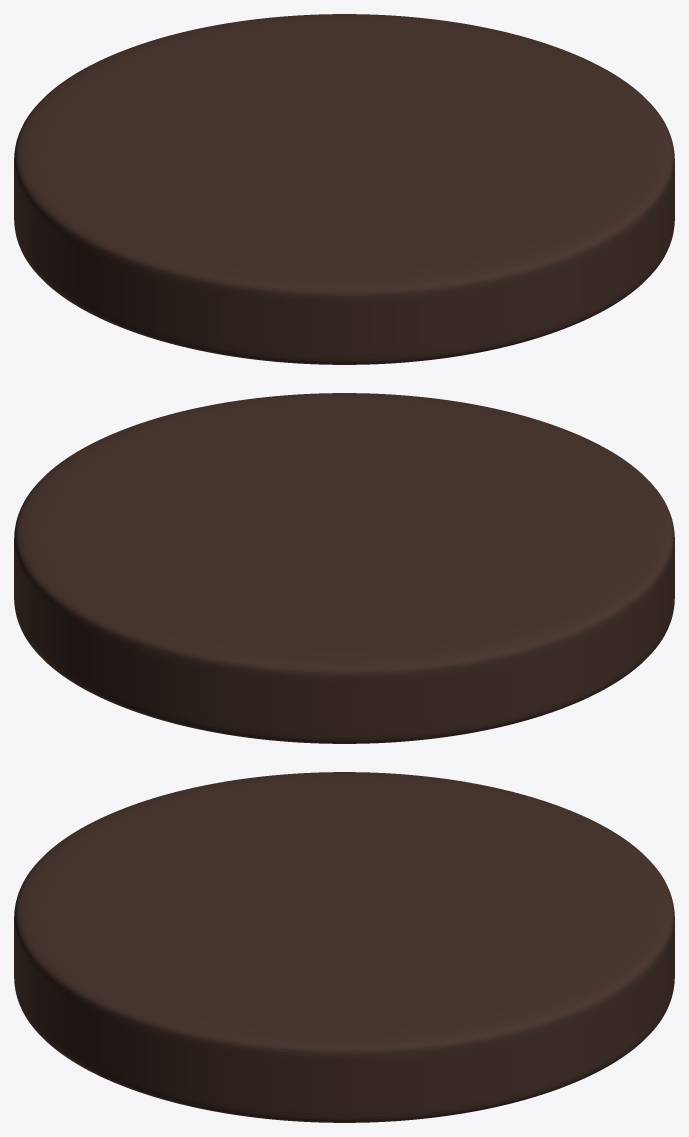
Rendered from gateau-chocolat-cuit.fbx.
3 views of the same model, one above another, from view 1: azimuth 30°, elevation 25°; view 2: azimuth 150°, elevation 25°; view 3: azimuth 270°, elevation 25° (orthographic).
Parts seen in each view (by area): view 1: genoise_2; view 2: genoise_2; view 3: genoise_2.
Part boxes in pixels (left/top/right/bottom): genoise_2: left=14, top=14, right=674, bottom=364; genoise_2: left=14, top=393, right=674, bottom=743; genoise_2: left=14, top=772, right=674, bottom=1122.
Size of the model in its own units: 199 by 27.18 by 199.
